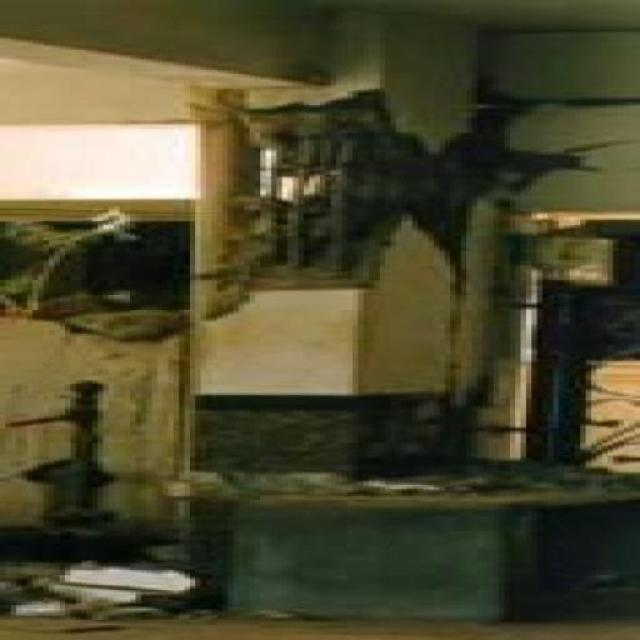D0w0: (246, 91, 580, 279)
